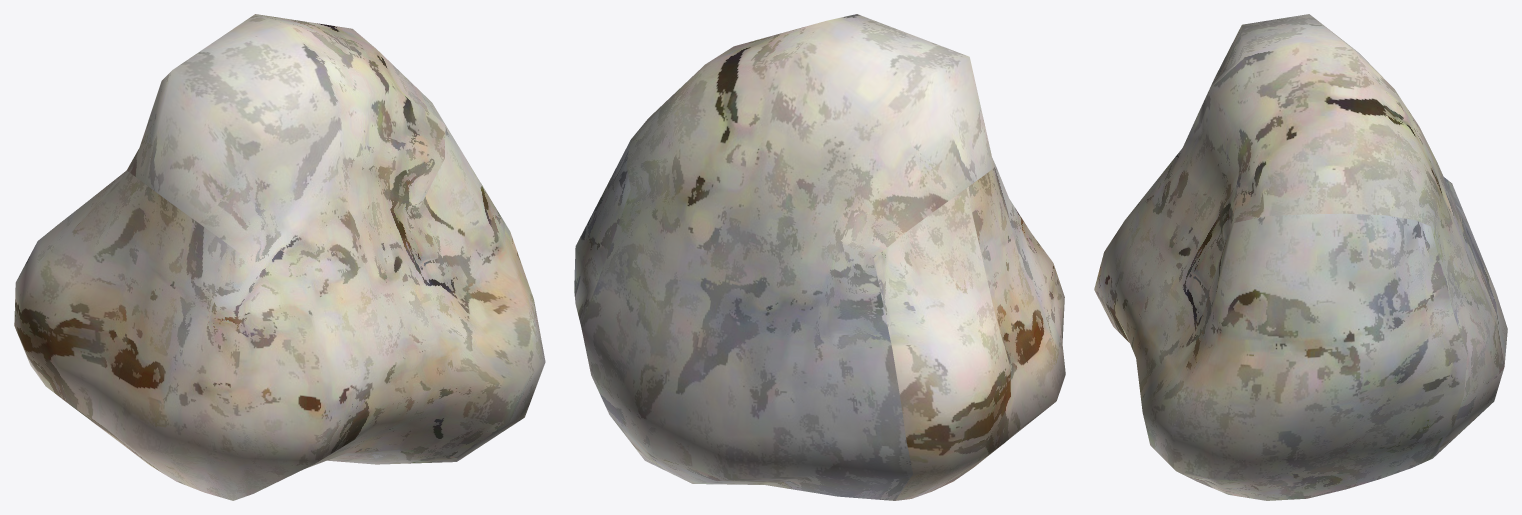
Rendered from rock57.fbx.
3 views of the same model, side by side, from view 1: azimuth 30°, elevation 25°; view 2: azimuth 150°, elevation 25°; view 3: azimuth 270°, elevation 25° (orthographic). The views are drawn at different scales.
Parts seen in each view (by area): view 1: pCube55; view 2: pCube55; view 3: pCube55.
Boxes of the visible parts, box(x1,y1,x2,y2) form: pCube55: box(14, 14, 545, 500); pCube55: box(574, 14, 1065, 500); pCube55: box(1094, 14, 1507, 500).
Size of the model in its own units: 5.89 by 5.76 by 5.37.
